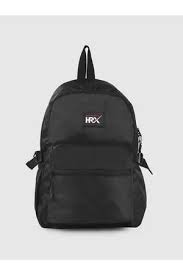backpack: (25, 44, 153, 229)
